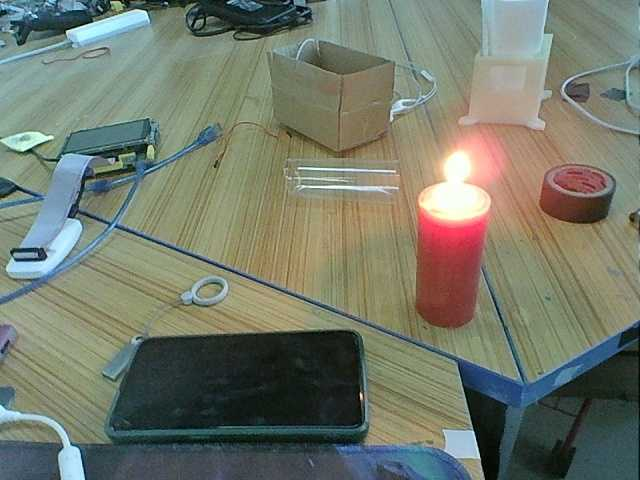candle: (417, 217, 484, 334)
fire: (411, 148, 496, 216)
